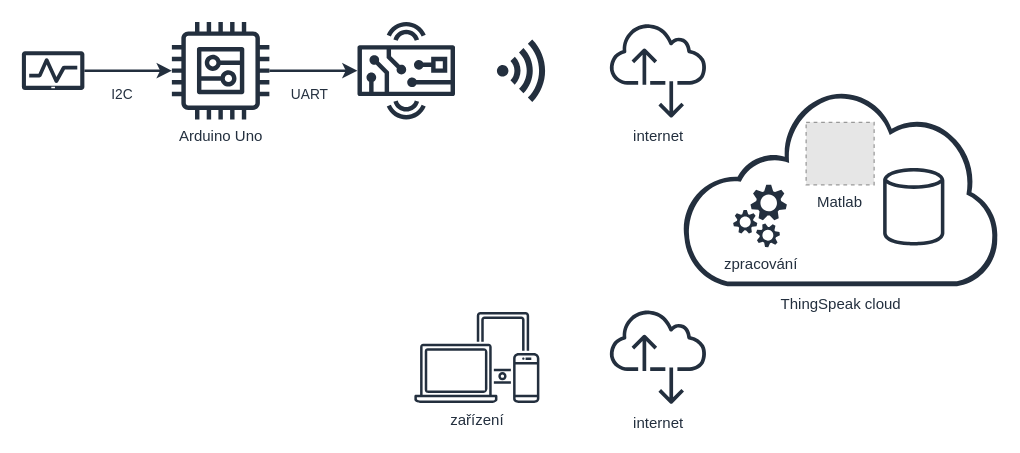
Some shapes in this 1020 by 453 pixel diagram are drawn without their labels. Grey dashed boxes stand in for pictures. The shapes that lost their labels are listed below. From the top down, each one's centre as x and y in pixels, then its label:
point 52,70: senzory
point 405,70: ESP8266
point 522,70: WiFi
point 913,206: data
